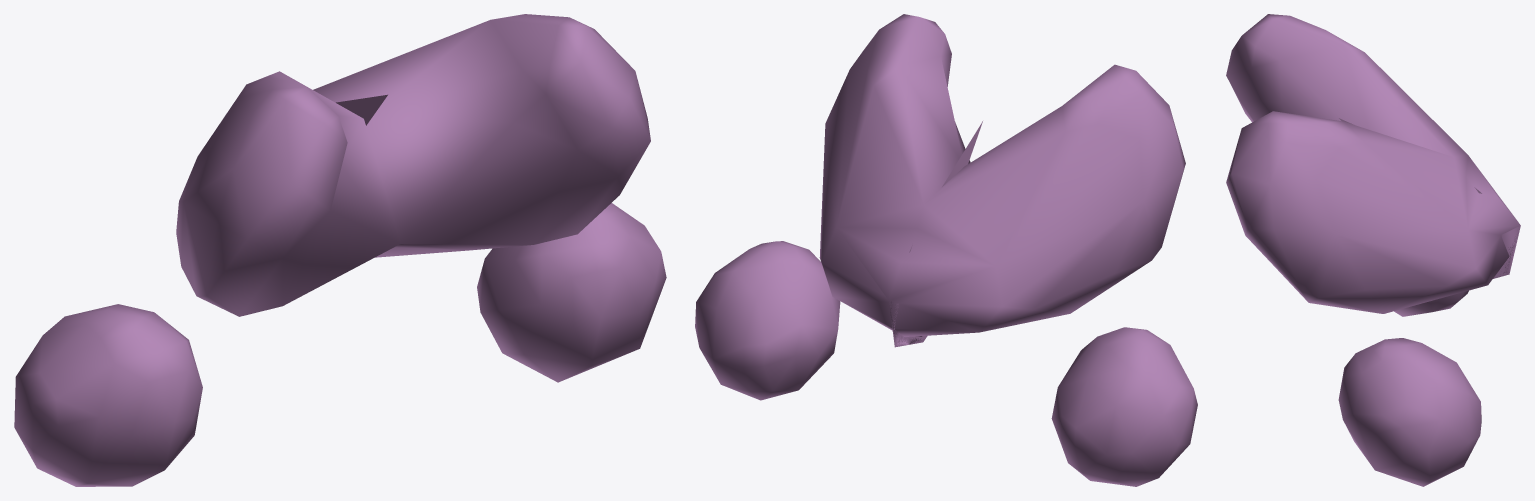
3 views of the same model, side by side, from view 1: azimuth 30°, elevation 25°; view 2: azimuth 150°, elevation 25°; view 3: azimuth 270°, elevation 25° (orthographic). The views are drawn at different scales.
Visible parts, largest first — view 1: 缰核; view 2: 缰核; view 3: 缰核.
Boxes of the visible parts, <box> form: 缰核: <box>14,14,666,486</box>; 缰核: <box>695,14,1197,486</box>; 缰核: <box>1226,14,1520,486</box>.
Bounding box in the file's own units: 0.0108 × 0.00729 × 0.00592.
